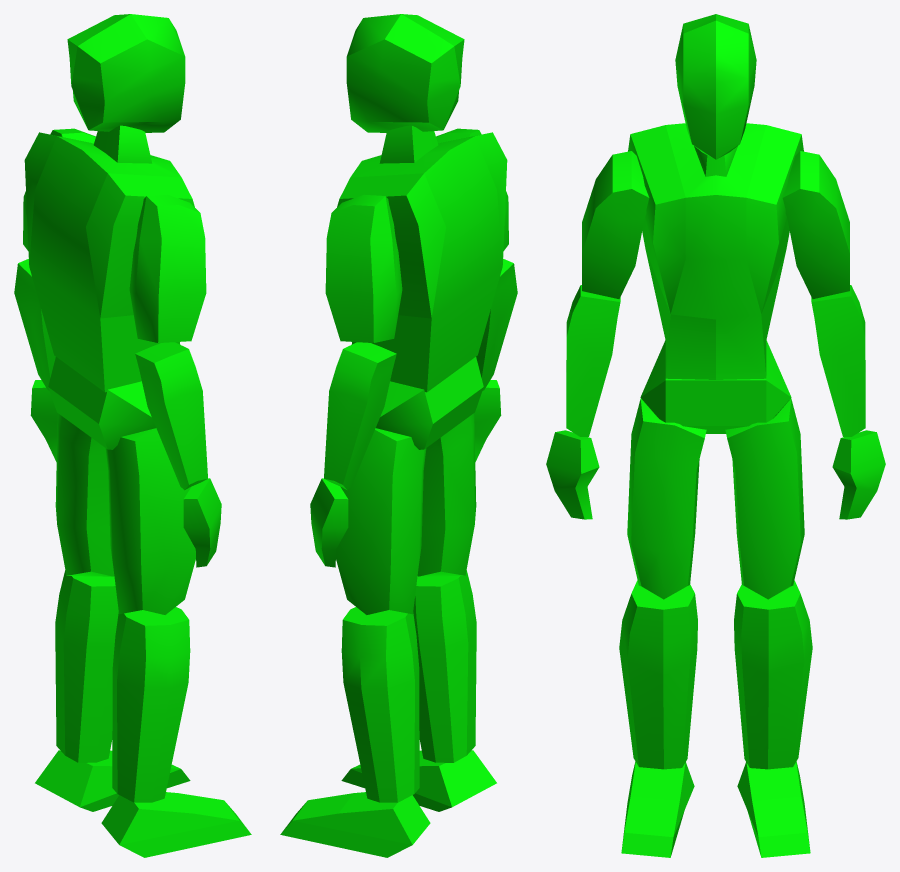
Rendered from Garry.fbx.
3 views of the same model, side by side, from view 1: azimuth 30°, elevation 25°; view 2: azimuth 150°, elevation 25°; view 3: azimuth 270°, elevation 25° (orthographic).
Visible parts, largest first — view 1: Garry; view 2: Garry; view 3: Garry.
Part boxes in pixels (box(x1,y1,x2,y2)): Garry: box(14, 14, 251, 857); Garry: box(280, 14, 517, 857); Garry: box(546, 14, 885, 857).
Bounding box in the file's own units: 34.8 × 175 × 67.41.
